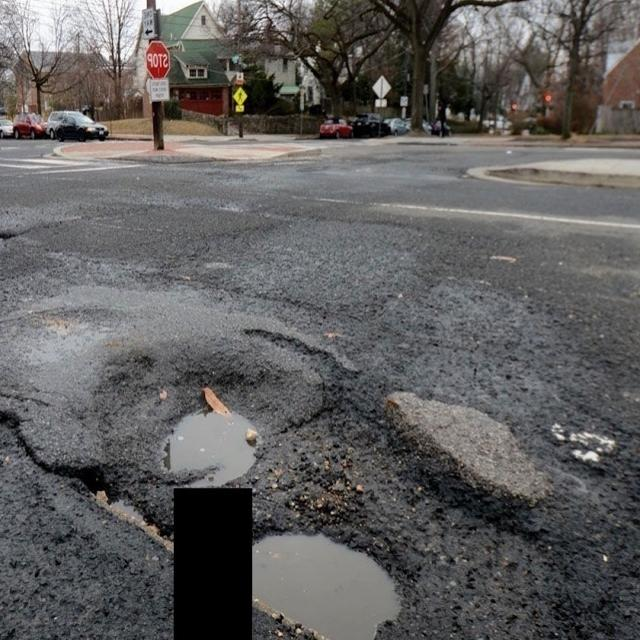road-pothole: (255, 523, 404, 639), (40, 461, 168, 558), (165, 392, 274, 486)
